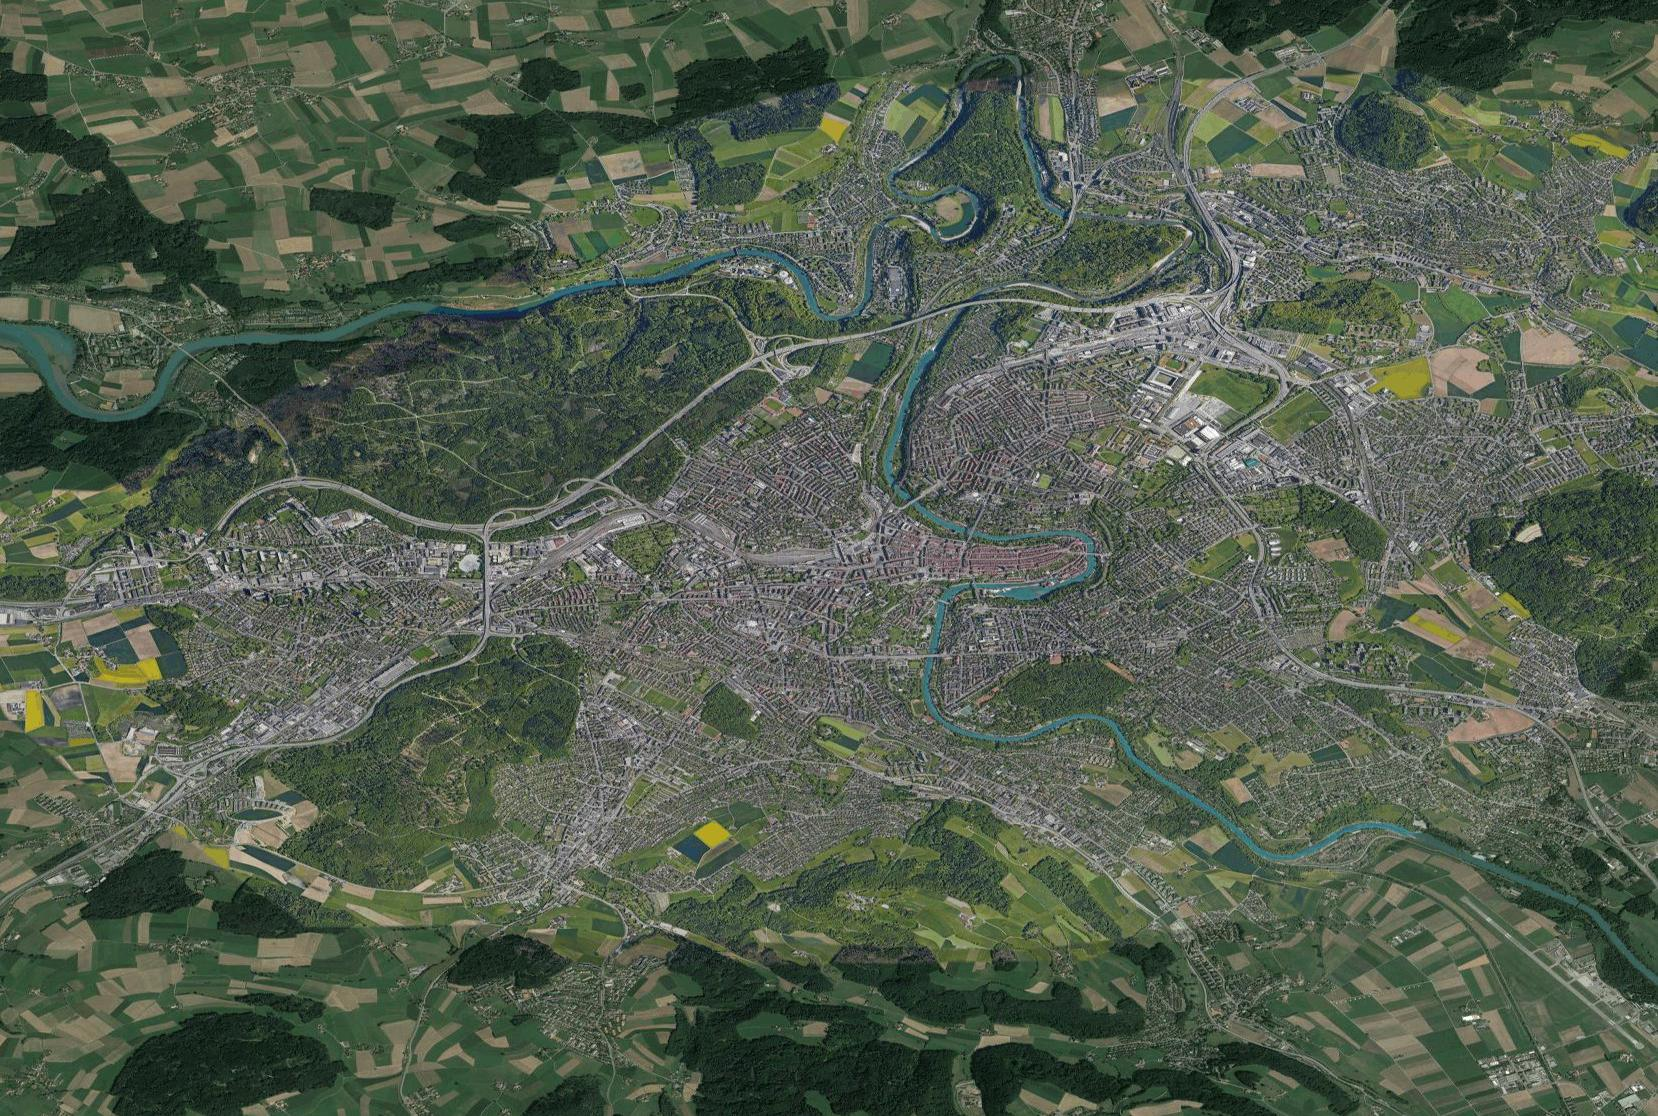motorway: (458, 471, 613, 541), (152, 741, 289, 806), (326, 481, 462, 536), (689, 343, 793, 406), (218, 473, 325, 531), (612, 400, 693, 473), (1178, 164, 1239, 255), (371, 653, 476, 702), (796, 316, 923, 352), (1151, 262, 1241, 310), (291, 705, 377, 749), (918, 298, 1036, 319), (476, 542, 493, 654), (1040, 296, 1147, 311)
train_station: (767, 537, 853, 569)
